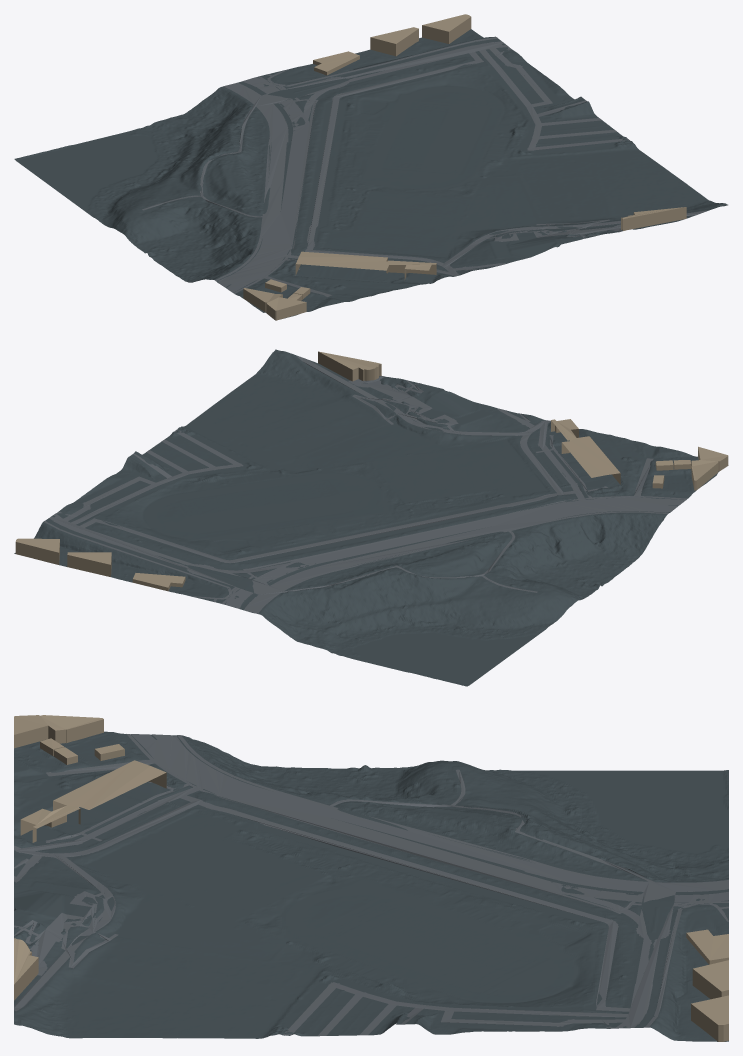
Rendered from epsg26910-1420-10874.lod0.glb.
3 views of the same model, one above another, from view 1: azimuth 30°, elevation 25°; view 2: azimuth 150°, elevation 25°; view 3: azimuth 270°, elevation 25° (orthographic). The views are drawn at different scales.
Parts seen in each view (by area): view 1: epsg26910-1420-10874-lod0; view 2: epsg26910-1420-10874-lod0; view 3: epsg26910-1420-10874-lod0.
Boxes of the visible parts, x1,y1,x2,y2 form: epsg26910-1420-10874-lod0: (14, 14, 727, 320); epsg26910-1420-10874-lod0: (14, 349, 728, 686); epsg26910-1420-10874-lod0: (14, 715, 728, 1041).
Bounding box in the file's own units: 384 × 37.95 × 384.
